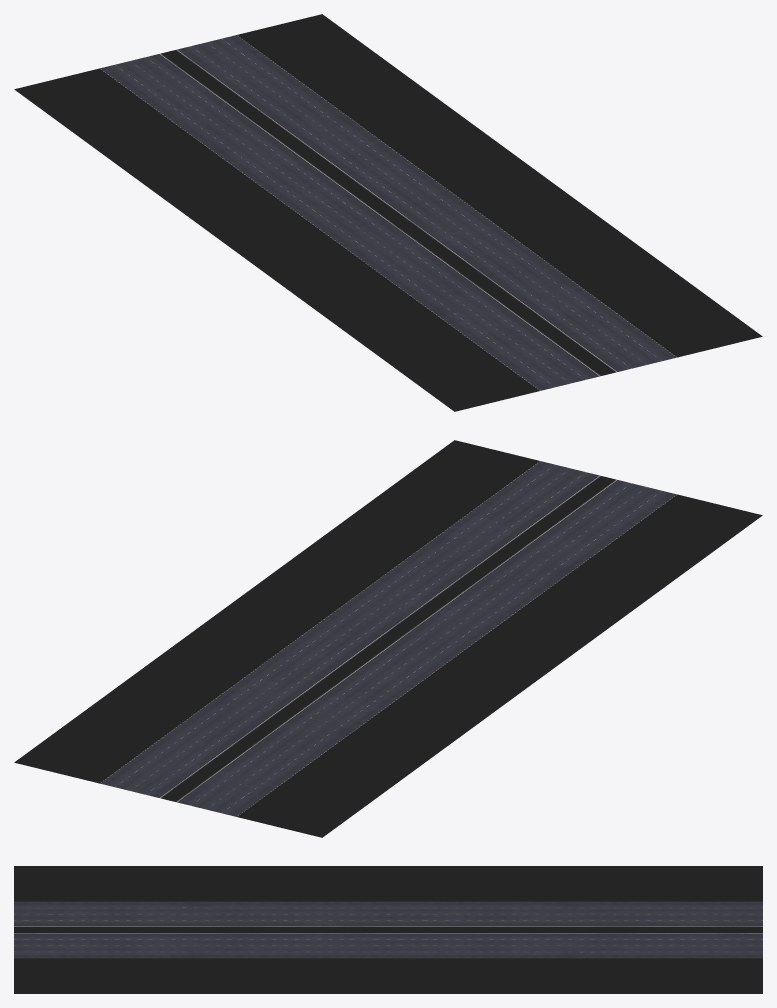
The model's file is flat_road_01.glb.
3 renders of one model, top to bottom at view 1: azimuth 30°, elevation 25°; view 2: azimuth 150°, elevation 25°; view 3: azimuth 270°, elevation 25°, orthographic. The views are drawn at different scales.
Parts seen in each view (by area): view 1: flat_road; view 2: flat_road; view 3: flat_road.
Boxes of the visible parts, x1,y1,x2,y2 form: flat_road: (14, 14, 762, 411); flat_road: (14, 440, 762, 837); flat_road: (14, 866, 762, 993).
Size of the model in its own units: 202 by 0 by 500.
Materials: 2 (1 with a texture image).
